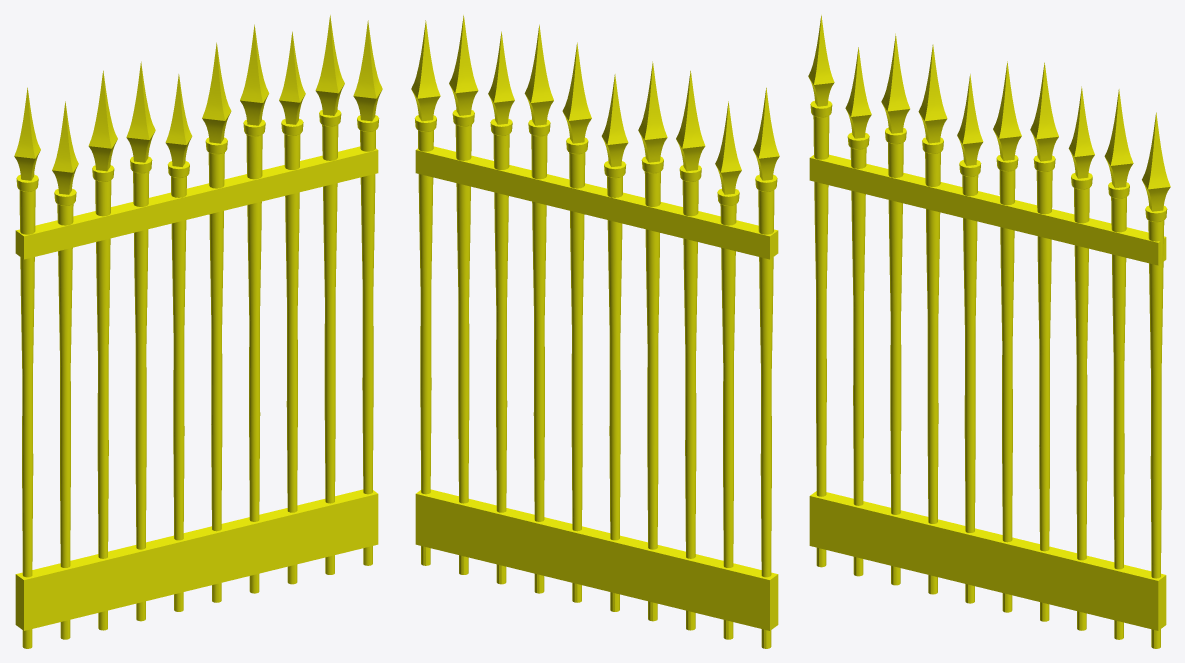
Rendered from prop-metalfence-simple.glb.
3 views of the same model, side by side, from view 1: azimuth 30°, elevation 25°; view 2: azimuth 150°, elevation 25°; view 3: azimuth 330°, elevation 25° (orthographic).
Visible parts, largest first — view 1: Prop_MetalFence_Simple; view 2: Prop_MetalFence_Simple; view 3: Prop_MetalFence_Simple.
Part boxes in pixels (x1=…): Prop_MetalFence_Simple: x1=14, y1=15, x2=382, y2=648; Prop_MetalFence_Simple: x1=411, y1=15, x2=779, y2=648; Prop_MetalFence_Simple: x1=808, y1=15, x2=1170, y2=648.
Size of the model in its own units: 1.95 by 2.87 by 0.1561.
1 material, 1 textured.
